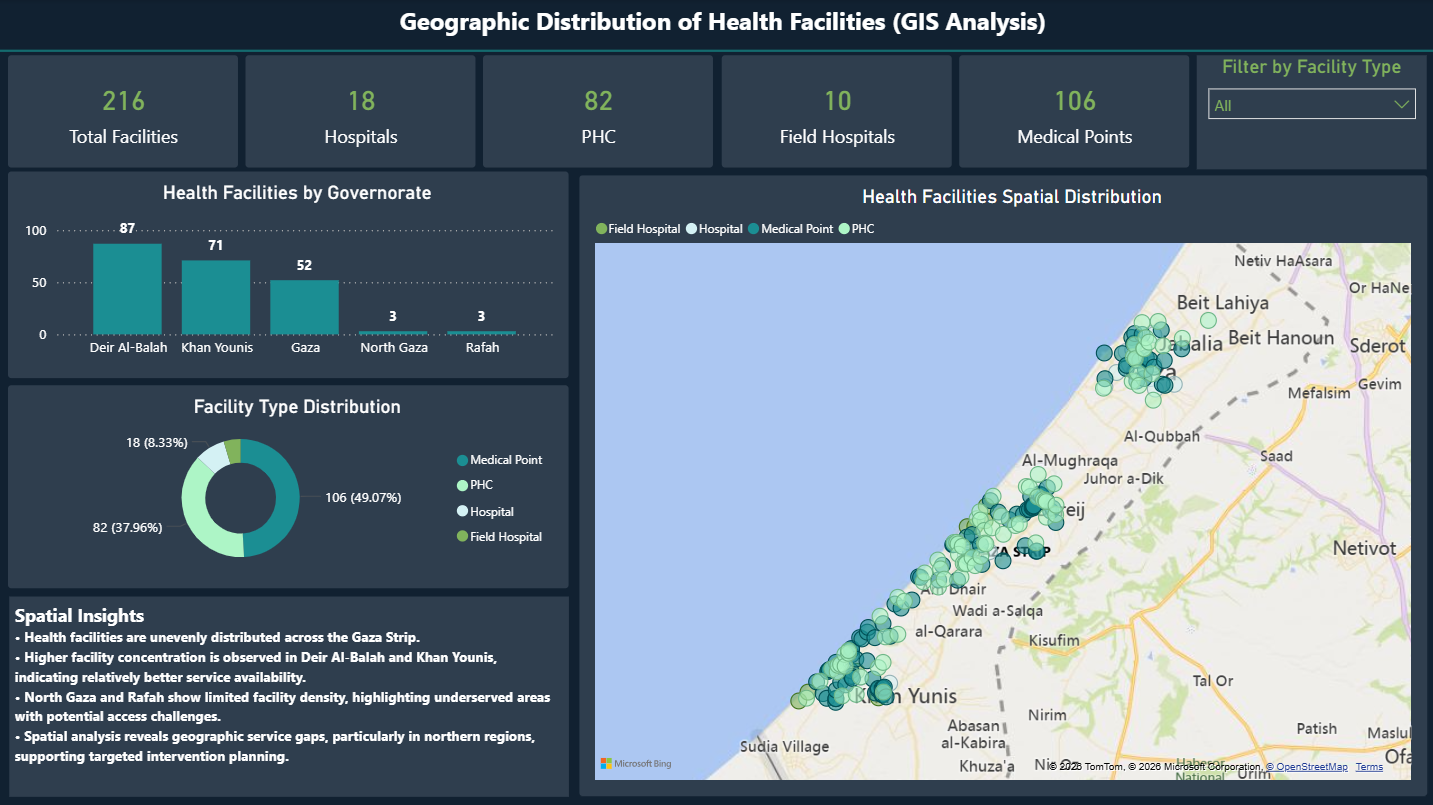

The dashboard page shown, as its layout file describes it:
{"tool":"powerbi","page":{"name":"GIS Health Facilities Map","canvas":[1280,720],"ordinal":3},"visuals":[{"type":"clusteredColumnChart","title":"Health Facilities by Governorate","fields":{"Category":["governorates.GovernorateName_English_02"],"Y":["health_facilities.Total Facilities"]},"box":[9,153.4,499.5,183.6],"z":0},{"type":"donutChart","title":"Facility Type Distribution","fields":{"Y":["CountNonNull(health_facilities.HSPID)"],"Category":["health_facilities.TYPE"]},"box":[9,343.8,499.5,181.1],"z":1000},{"type":"textbox","box":[326.2,0,635,40],"z":2000},{"type":"card","fields":{"Values":["health_facilities.Total Facilities"]},"box":[8.8,50.2,205,100],"z":3000},{"type":"card","fields":{"Values":["health_facilities.Hospitals"]},"box":[220.5,50.2,205,100],"z":4000},{"type":"card","fields":{"Values":["health_facilities.Field Hospitals"]},"box":[644,50.2,205,100],"z":5000},{"type":"card","fields":{"Values":["health_facilities.PHC"]},"box":[432.2,50.2,205,100],"z":6000},{"type":"card","fields":{"Values":["health_facilities.Medical Points"]},"box":[855.8,50.2,205,100],"z":7000},{"type":"map","title":"Health Facilities Spatial Distribution","fields":{"X":["health_facilities.longitude"],"Y":["health_facilities.latitude"],"Series":["health_facilities.TYPE"]},"box":[517.5,157.5,755,552.5],"z":8000},{"type":"textbox","box":[328.7,0,634.4,39.8],"z":9000},{"type":"textbox","box":[10.3,531.6,498.2,178.5],"z":10000},{"type":"shape","box":[0,36.2,1280,18.8],"z":11000},{"type":"slicer","title":"Filter by Facility Type","fields":{"Values":["health_facilities.facility_category"]},"box":[1067.5,49.6,205,101.2],"z":12000}]}

Visuals, with their boxes in screenshot pixels (x1, y1, x2, y2), scaled from the page's 1280x720 canvas onto the 1433x805 screenshot:
"Health Facilities by Governorate" clusteredColumnChart: [10,172,569,377]
"Facility Type Distribution" donutChart: [10,384,569,587]
textbox: [365,0,1076,45]
card - health_facilities.Total Facilities: [10,56,239,168]
card - health_facilities.Hospitals: [247,56,476,168]
card - health_facilities.Field Hospitals: [721,56,950,168]
card - health_facilities.PHC: [484,56,713,168]
card - health_facilities.Medical Points: [958,56,1188,168]
"Health Facilities Spatial Distribution" map: [579,176,1425,794]
textbox: [368,0,1078,44]
textbox: [12,594,569,794]
shape: [0,40,1432,61]
"Filter by Facility Type" slicer: [1195,55,1425,169]
